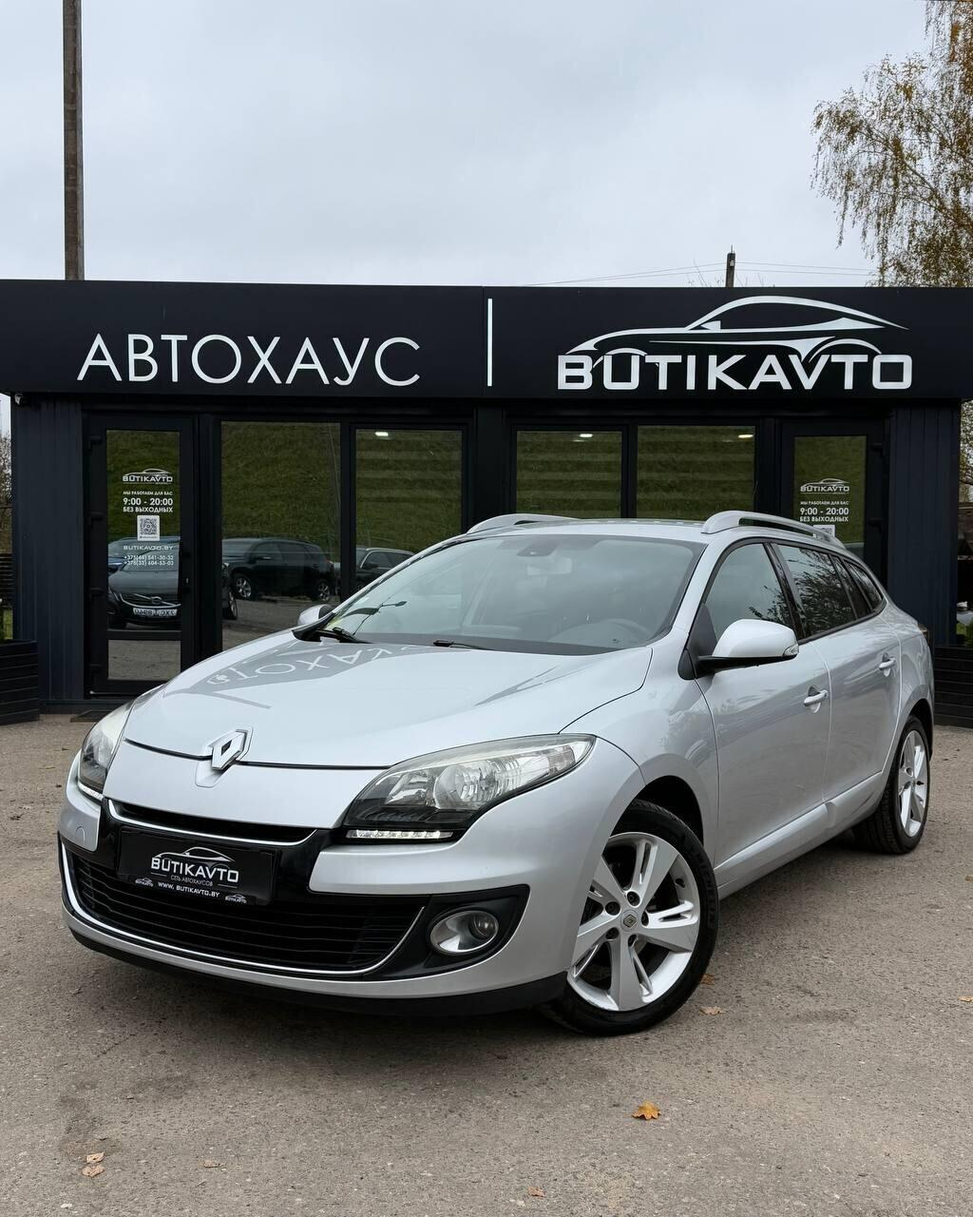Megane_2012-2014: (54, 510, 944, 1065)
